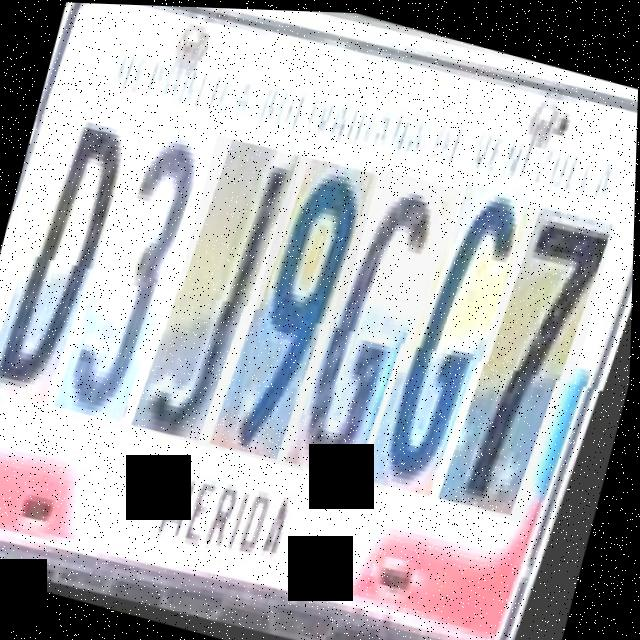3: (64, 118, 222, 433)
7: (449, 197, 616, 525)
9: (220, 149, 381, 470)
D: (0, 101, 146, 415)
G: (296, 161, 462, 489), (373, 175, 537, 506)
J: (142, 131, 303, 451)
